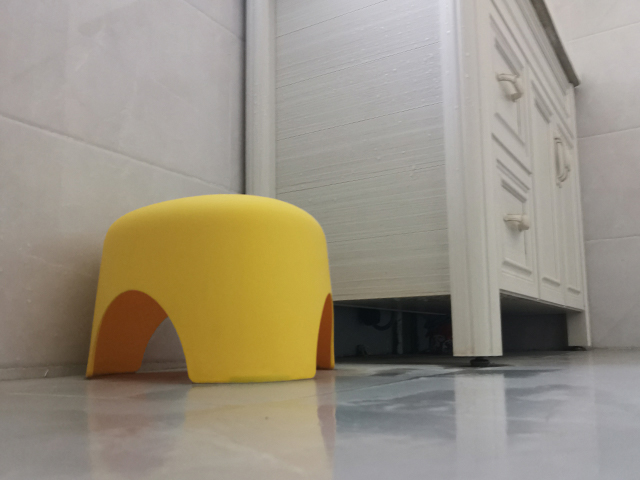cabinet: (240, 1, 594, 368)
stool: (81, 192, 337, 386)
